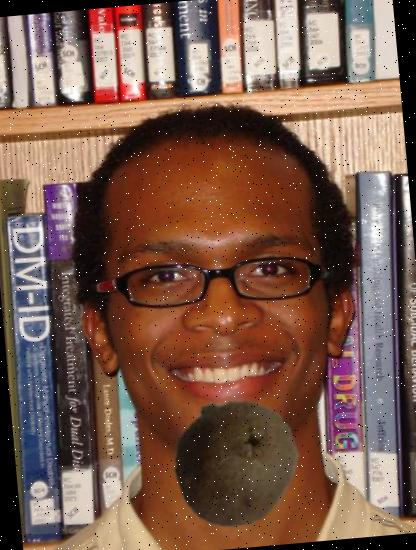Kiwi: (167, 394, 306, 532)
